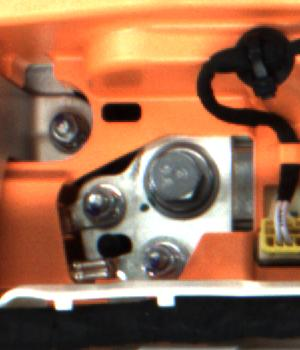nut_b: (141, 140, 220, 215)
screw_s: (79, 180, 126, 224), (49, 114, 91, 157), (142, 245, 190, 279)
